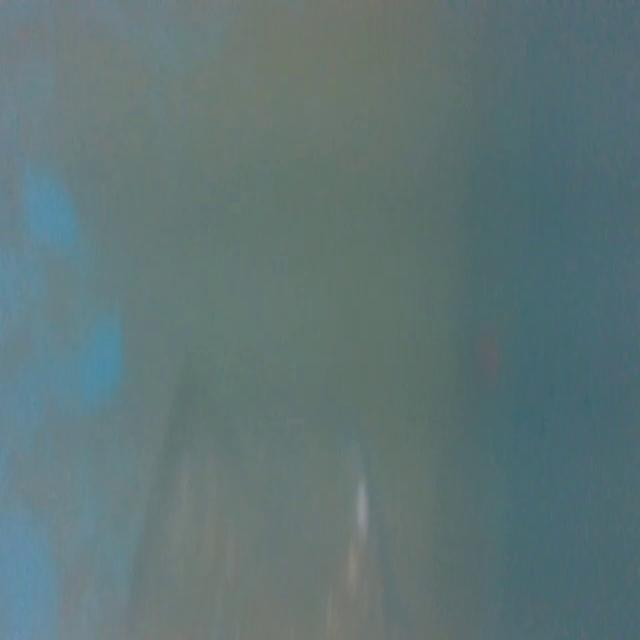plastic bottle: (185, 378, 401, 640), (460, 227, 516, 381)
